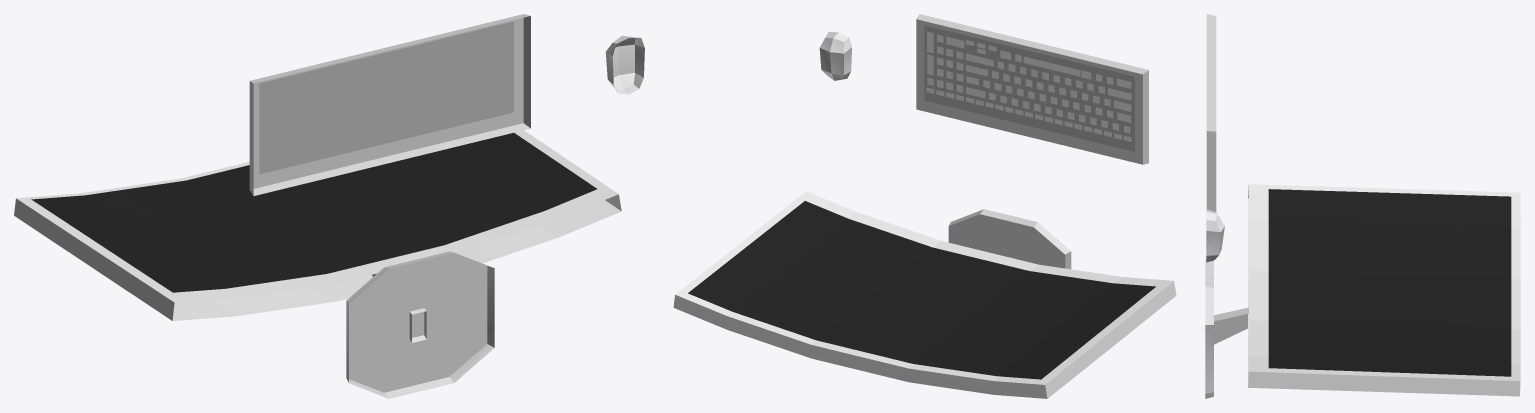
The model's file is desk-topper.glb.
3 renders of one model, left to right at view 1: azimuth 30°, elevation 25°; view 2: azimuth 150°, elevation 25°; view 3: azimuth 270°, elevation 25°, orthographic. The views are drawn at different scales.
Visible parts, largest first — view 1: office_table_028; view 2: office_table_028; view 3: office_table_028.
Part boxes in pixels (x1,y1,x2,y2): office_table_028: (14,14,644,398); office_table_028: (673,14,1176,398); office_table_028: (1205,14,1520,398).
Bounding box in the file's own units: 0.7082 × 0.5211 × 0.4949.
Materials: 1 (1 with a texture image).
